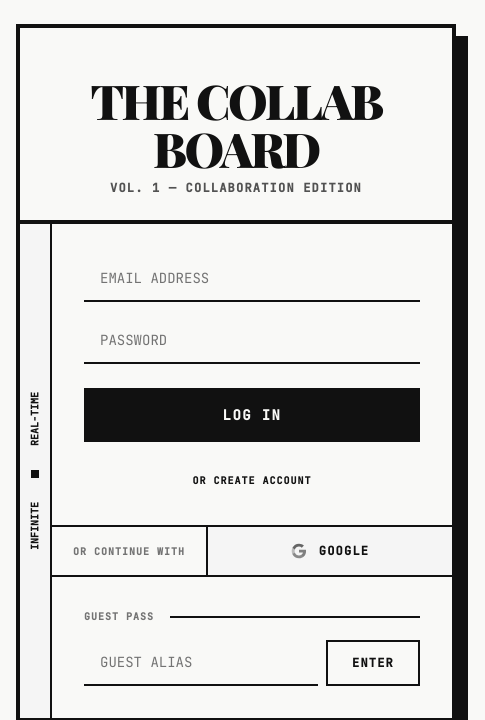
LoginPage integration › shows validation error when guest login name is empty
Click the button "ENTER" at (373, 663), box [326, 640, 420, 686]
(page scrolled)
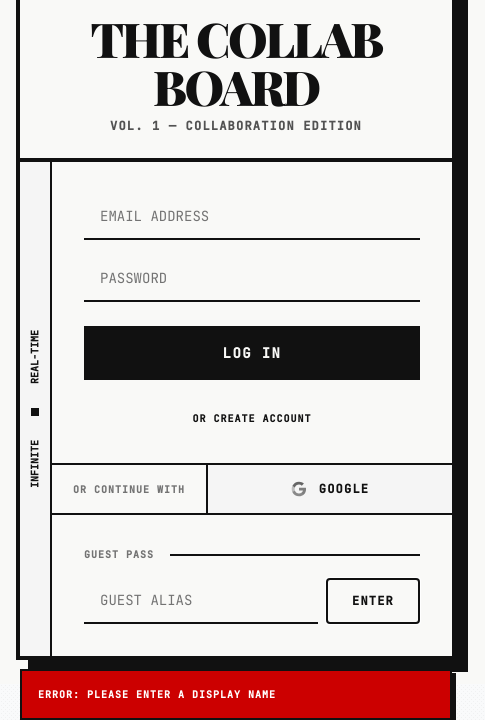
Expected: the text "ERROR: Please enter a display name" is shown, [20, 669, 452, 719]
